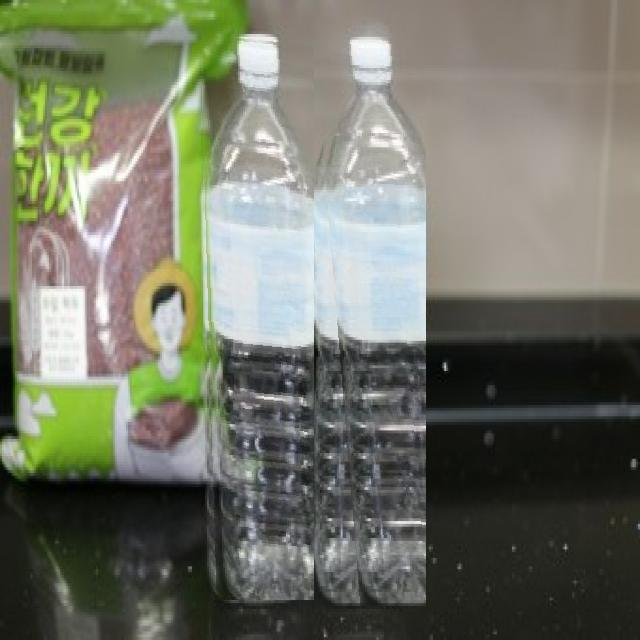plastic bottle: (200, 34, 314, 600), (314, 37, 426, 606)
